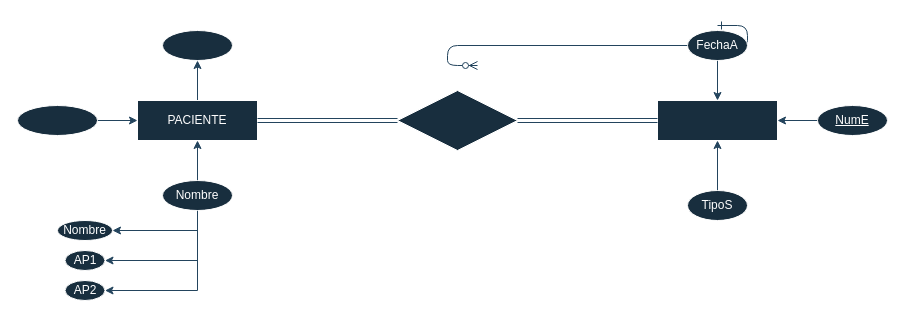
This 905x318 diagram has some shape labels left out. Here are the shapes that lost their labels. From the top down, the centre of each, then its label:
At [197,45]: "FechaNac".
At [57,120]: "IdPaciente".
At [457,120]: "TIENE".
At [717,120]: "EXPEDIENTE".
